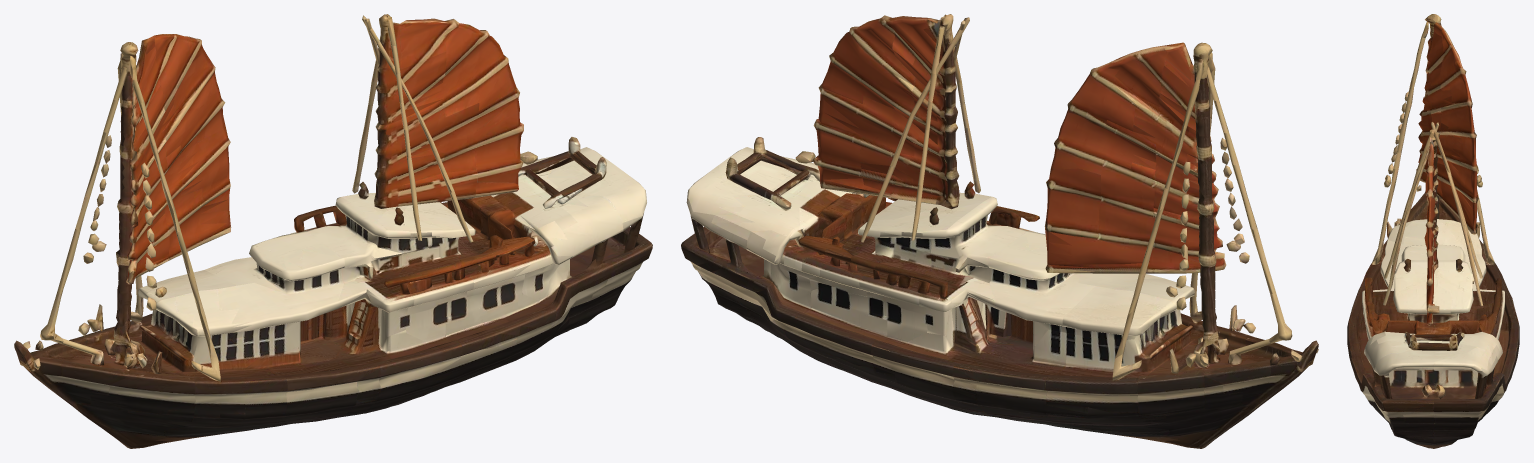
The model's file is thuyen-buom.glb.
The picture shows the model from 3 angles, left to right: view 1: azimuth 30°, elevation 25°; view 2: azimuth 150°, elevation 25°; view 3: azimuth 270°, elevation 25°; orthographic projection. The views are drawn at different scales.
Size of the model in its own units: 1 by 0.644 by 0.3395.
Materials: 1 (1 with a texture image).
